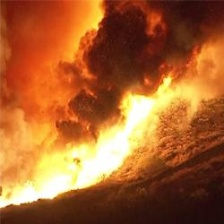fire: (1, 68, 179, 211)
smoke: (67, 1, 218, 90)
